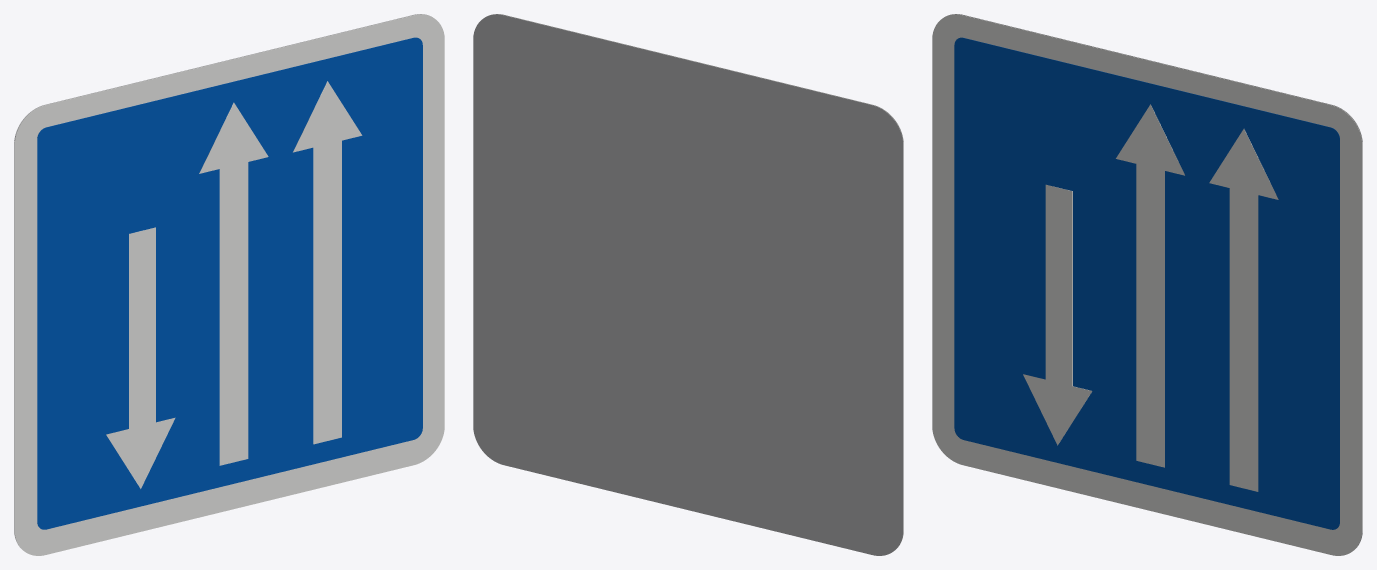
3 views of the same model, side by side, from view 1: azimuth 30°, elevation 25°; view 2: azimuth 150°, elevation 25°; view 3: azimuth 330°, elevation 25° (orthographic).
Visible parts, largest first — view 1: C29b_p01, C29b_p00, C29b_p03, C29b_p04, C29b_p02, C29b_dos; view 2: C29b_dos, C29b_p00; view 3: C29b_p01, C29b_p00, C29b_p04, C29b_p03, C29b_p02, C29b_dos.
Boxes of the visible parts, x1,y1,x2,y2 form: C29b_p01: (37,37,422,529); C29b_p00: (14,14,444,555); C29b_p03: (199,102,268,465); C29b_p04: (293,81,362,444); C29b_p02: (106,227,175,488); C29b_dos: (14,14,431,547); C29b_dos: (473,14,903,555); C29b_p00: (486,14,903,547); C29b_p01: (954,37,1339,529); C29b_p00: (932,14,1362,555); C29b_p04: (1209,129,1278,491); C29b_p03: (1116,104,1184,467); C29b_p02: (1023,184,1092,445); C29b_dos: (945,14,1362,547).
Bounding box in the file's own units: 0.7 × 0.6999 × 0.0035.
